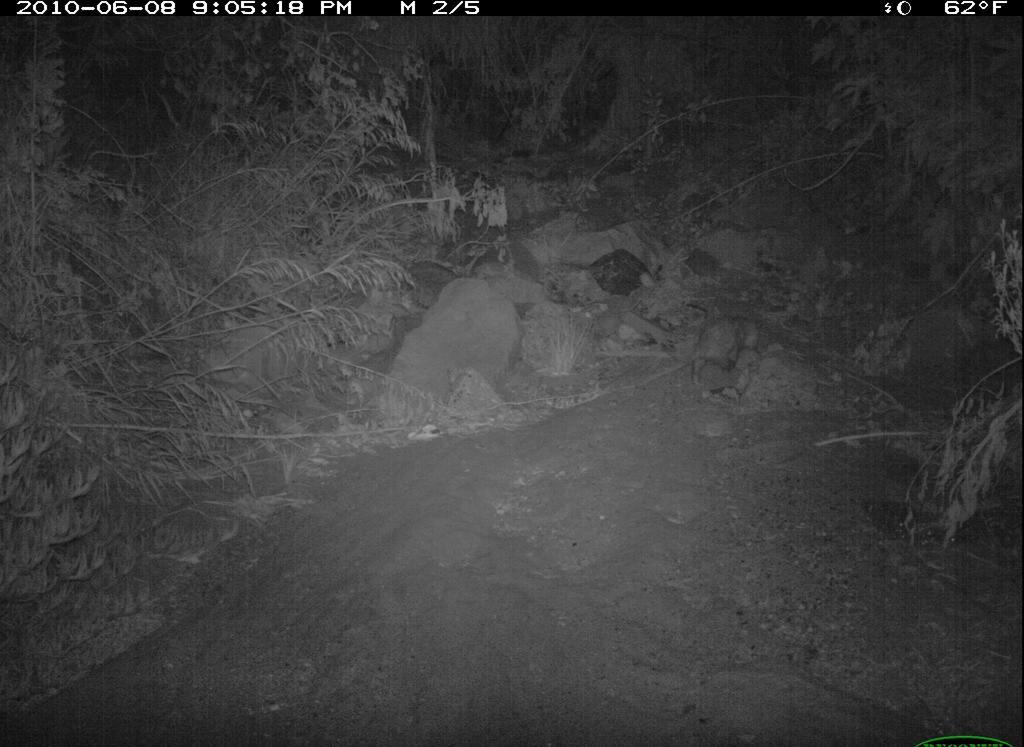opossum: (642, 312, 783, 392)
